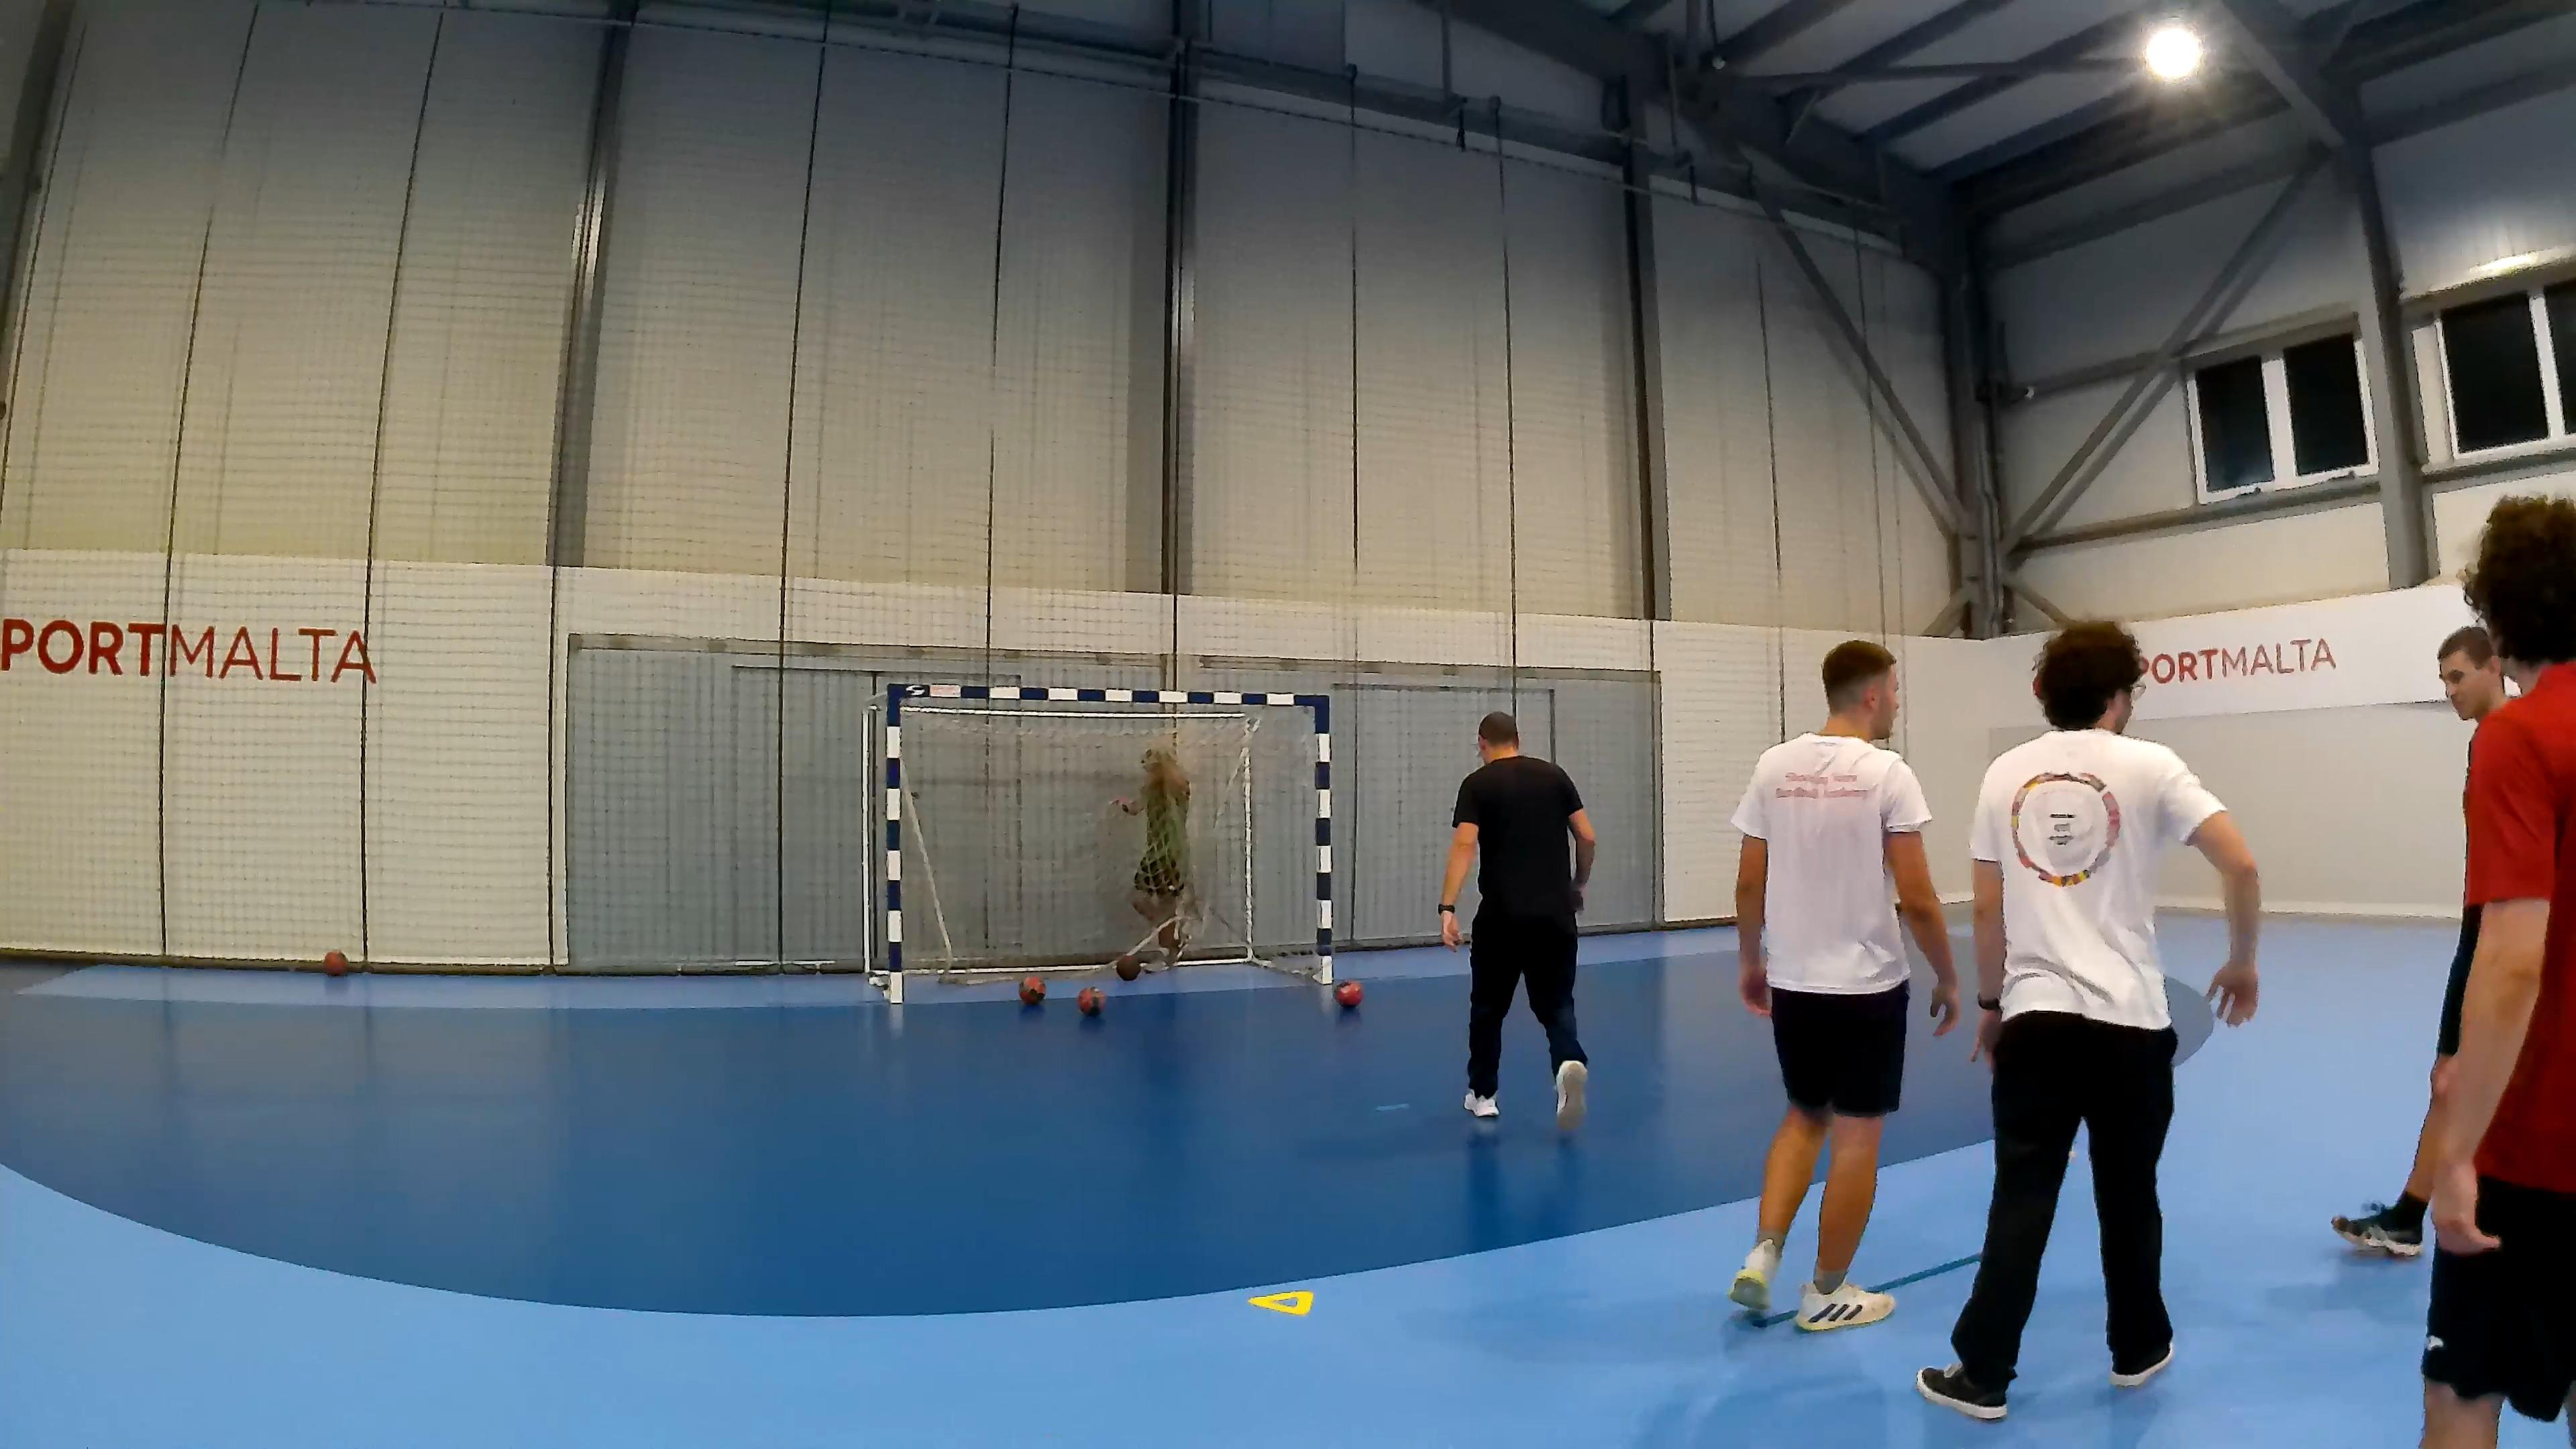handball: (1017, 973, 1046, 1005), (1076, 985, 1104, 1014), (1334, 980, 1362, 1007), (1115, 954, 1139, 980)
